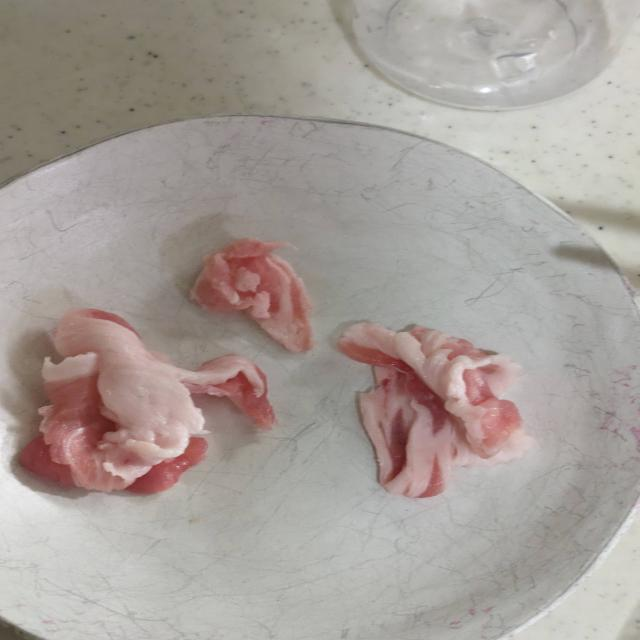NG raw pork,: (0, 302, 283, 509), (320, 318, 555, 504), (189, 231, 322, 367)
